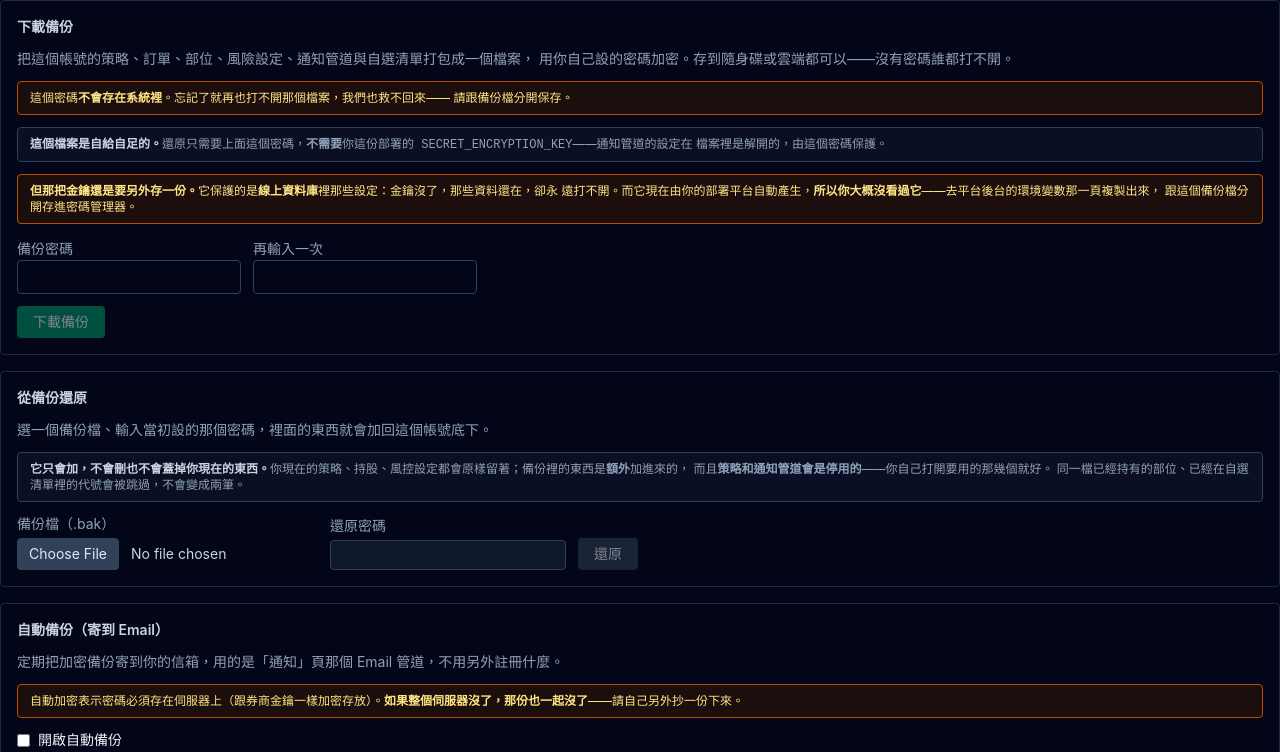
Test case: BackupPanel › says so when the two do not match
Type "a-long-enough-passphrase" into the password field labelled "備份密碼". click: x=129, y=277
box: [17, 260, 241, 294]
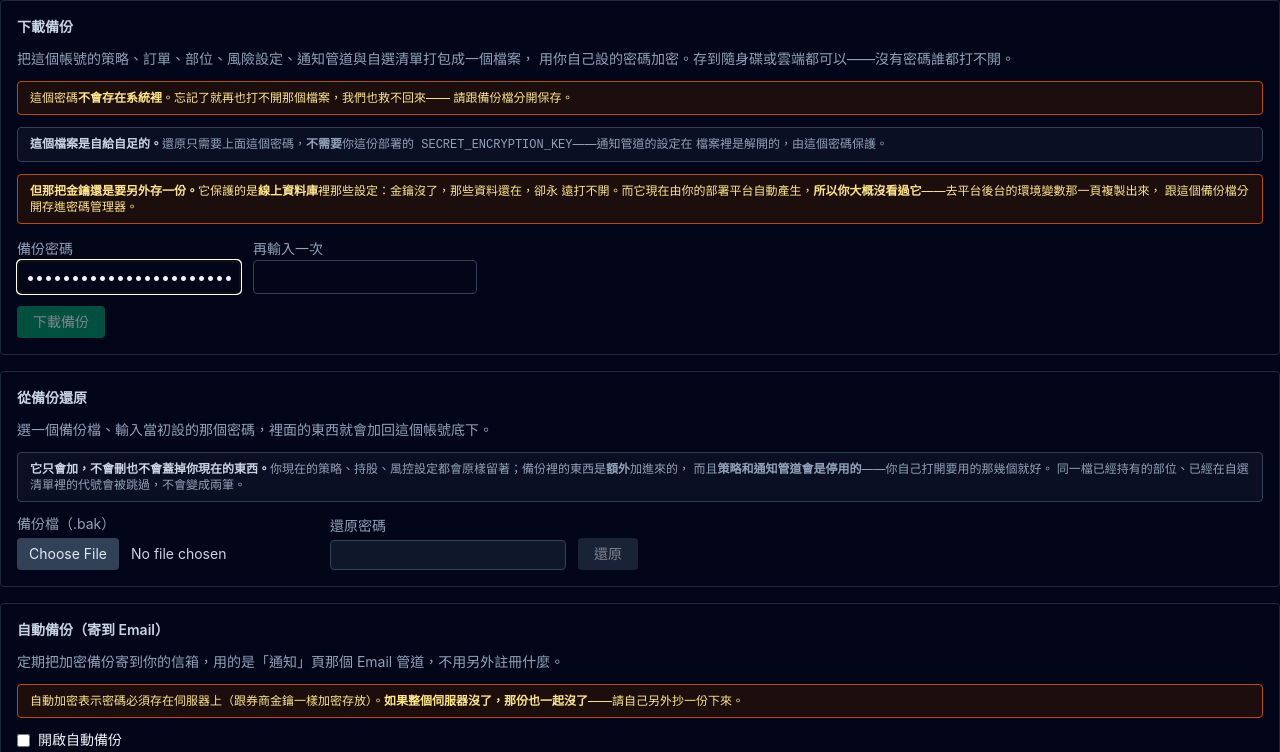
Type "something-else" into the password field labelled "再輸入一次". click: x=365, y=277
box: [253, 260, 477, 294]
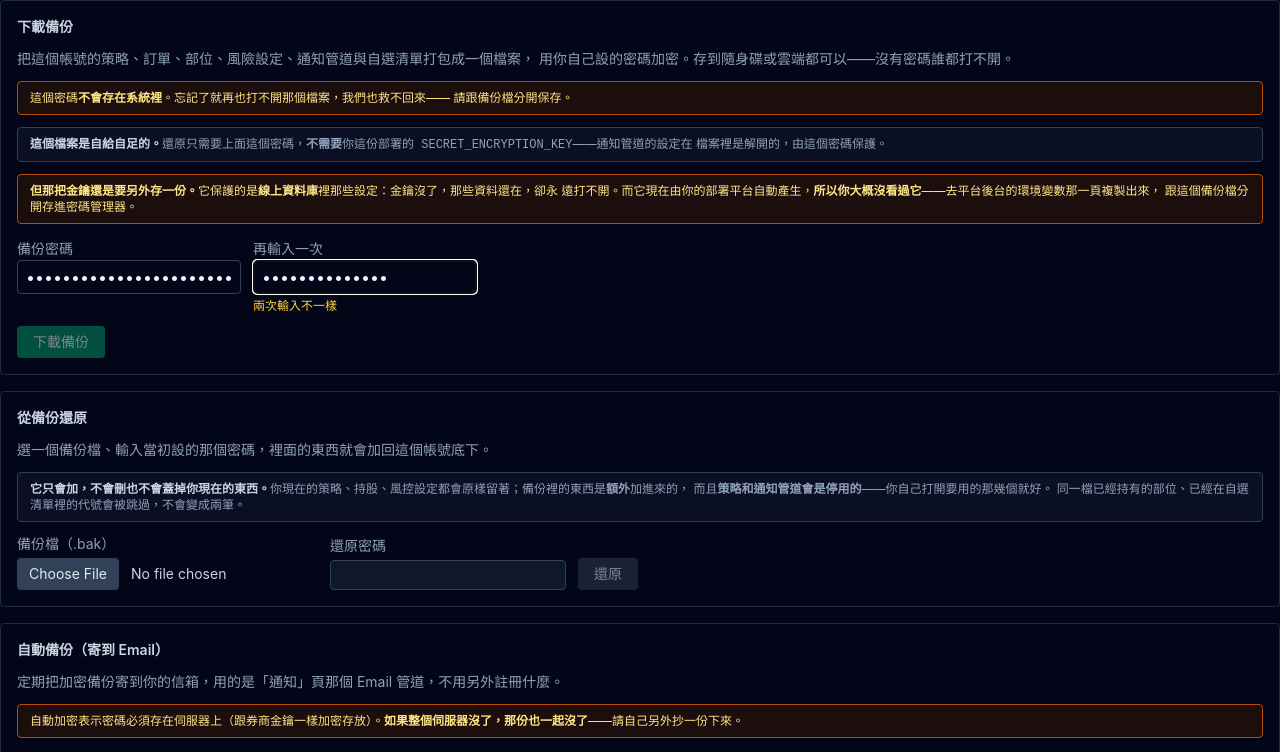
Expected: the button "下載備份" is disabled, [17, 326, 105, 358]
Expected: the text "兩次輸入不一樣" is shown, [253, 298, 337, 313]
